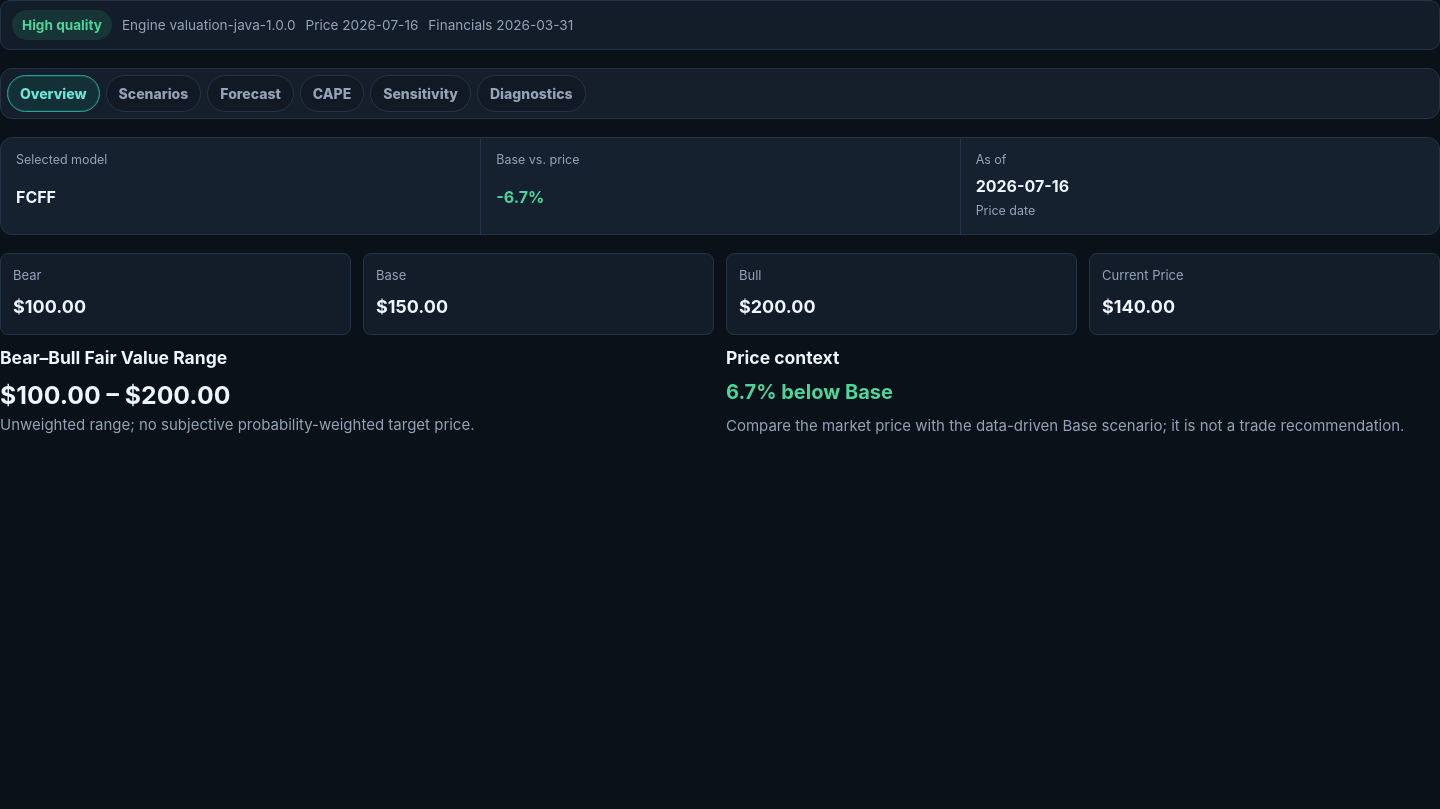
ValuationWorkspace › shows company-specific growth evidence and supports a custom annual path
Click the button "Scenarios" at (153, 94), box [106, 75, 201, 112]
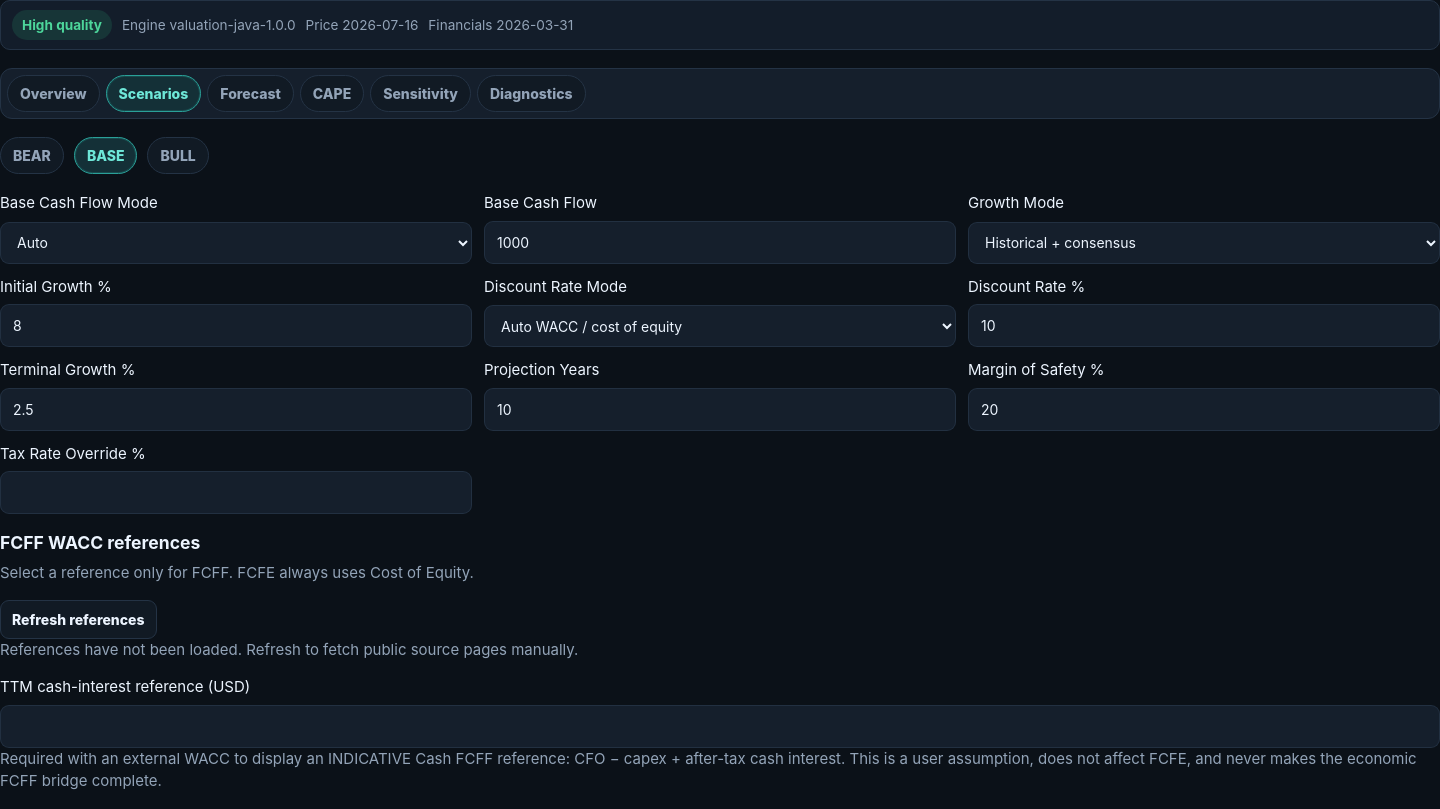
Check: the number field labelled "Initial Growth %" is disabled, box [0, 304, 472, 347]
Select "Custom annual path" in the dropdown labelled "Growth Mode" at (1204, 243), box [968, 222, 1439, 264]
(page scrolled)
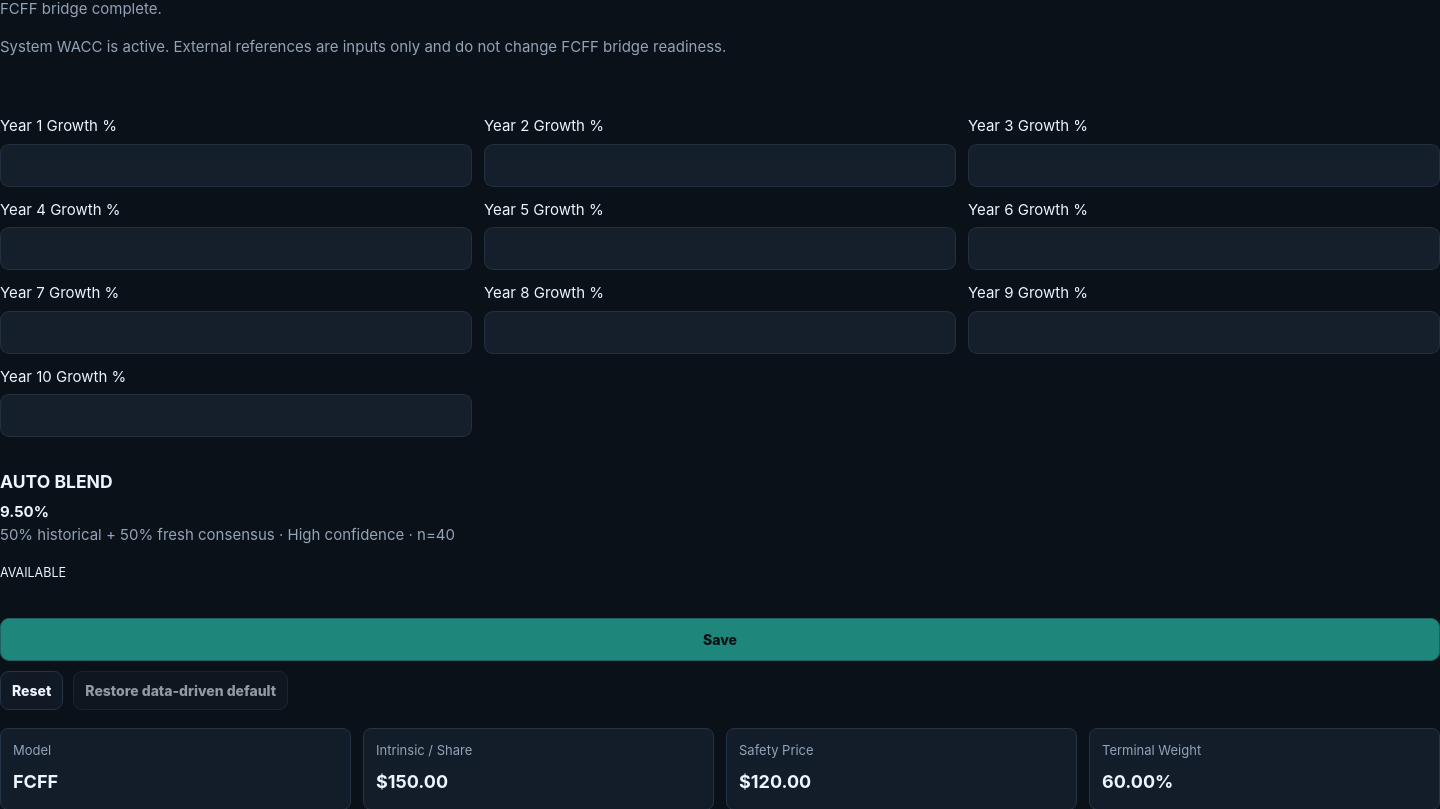
Check: the number field labelled "Year 1 Growth %" is shown, box [0, 144, 472, 187]
Check: the number field labelled "Year 10 Growth %" is shown, box [0, 394, 472, 437]
